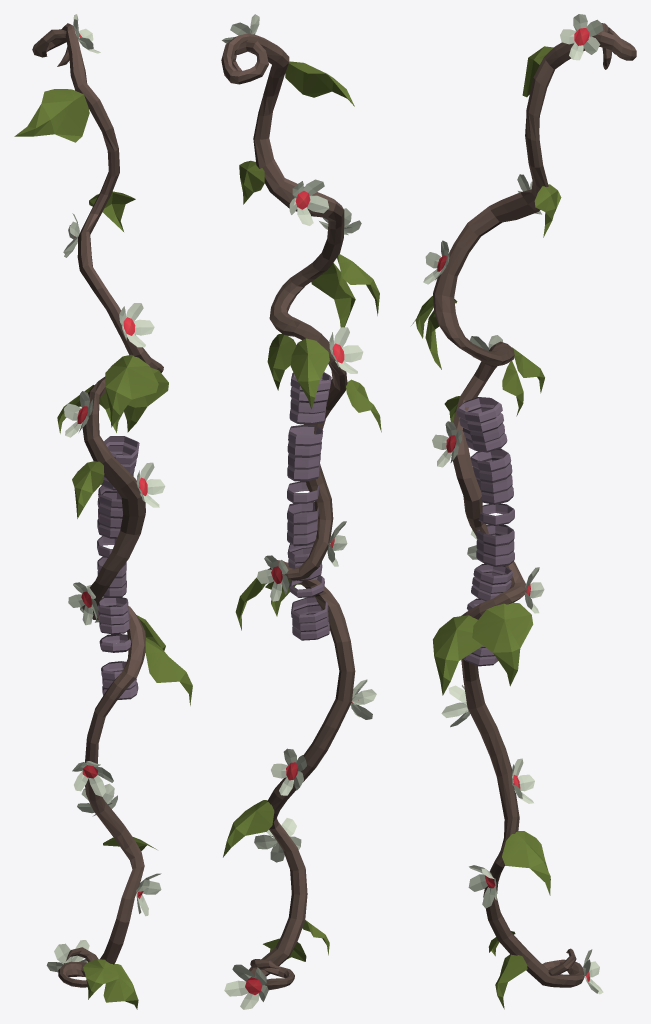
File: mediumBowIvyHandle.glb
3 renders of one model, left to right at view 1: azimuth 30°, elevation 25°; view 2: azimuth 150°, elevation 25°; view 3: azimuth 270°, elevation 25°, orthographic. The views are drawn at different scales.
Parts seen in each view (by area): view 1: mediumBowIvyHandle; view 2: mediumBowIvyHandle; view 3: mediumBowIvyHandle.
Boxes of the visible parts, box(x1,y1,x2,y2) form: mediumBowIvyHandle: box(14, 14, 192, 1009); mediumBowIvyHandle: box(221, 14, 381, 1009); mediumBowIvyHandle: box(411, 14, 636, 1009).
Bounding box in the file's own units: 0.1743 × 1.23 × 0.2554.
